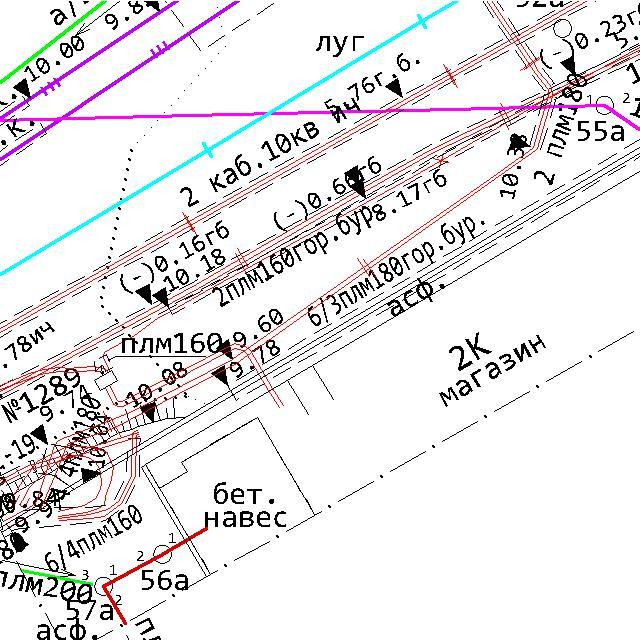asphalt: (386, 277, 445, 319)
mark: (29, 422, 49, 447), (13, 76, 33, 100), (510, 131, 534, 151), (210, 363, 230, 387), (138, 397, 156, 423), (384, 78, 404, 100), (348, 178, 368, 200), (559, 54, 577, 78), (136, 282, 154, 306), (152, 285, 170, 309), (216, 338, 234, 362), (345, 164, 361, 184)
meadow: (315, 34, 366, 58)
well: (594, 94, 616, 116), (94, 574, 114, 597), (552, 16, 572, 38), (153, 544, 173, 565)
